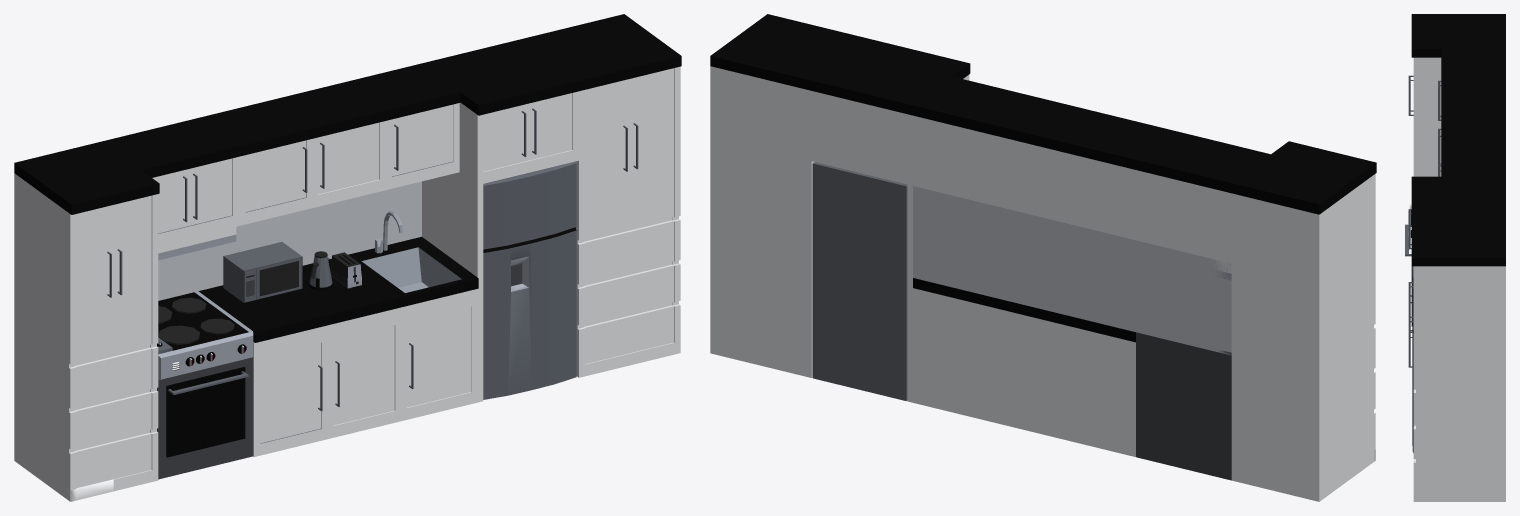
The model's file is Accesories_Kitchen_full.001.glb.
3 renders of one model, left to right at view 1: azimuth 30°, elevation 25°; view 2: azimuth 150°, elevation 25°; view 3: azimuth 270°, elevation 25°, orthographic. The views are drawn at different scales.
Visible parts, largest first — view 1: Accesories_Kitchen_full.001; view 2: Accesories_Kitchen_full.001; view 3: Accesories_Kitchen_full.001.
Boxes of the visible parts, x1=… form: Accesories_Kitchen_full.001: x1=14, y1=14, x2=681, y2=501; Accesories_Kitchen_full.001: x1=710, y1=14, x2=1376, y2=501; Accesories_Kitchen_full.001: x1=1405, y1=14, x2=1505, y2=501.
Bounding box in the file's own units: 5.1 × 2.38 × 0.8898.
Materials: 1 (1 with a texture image).
